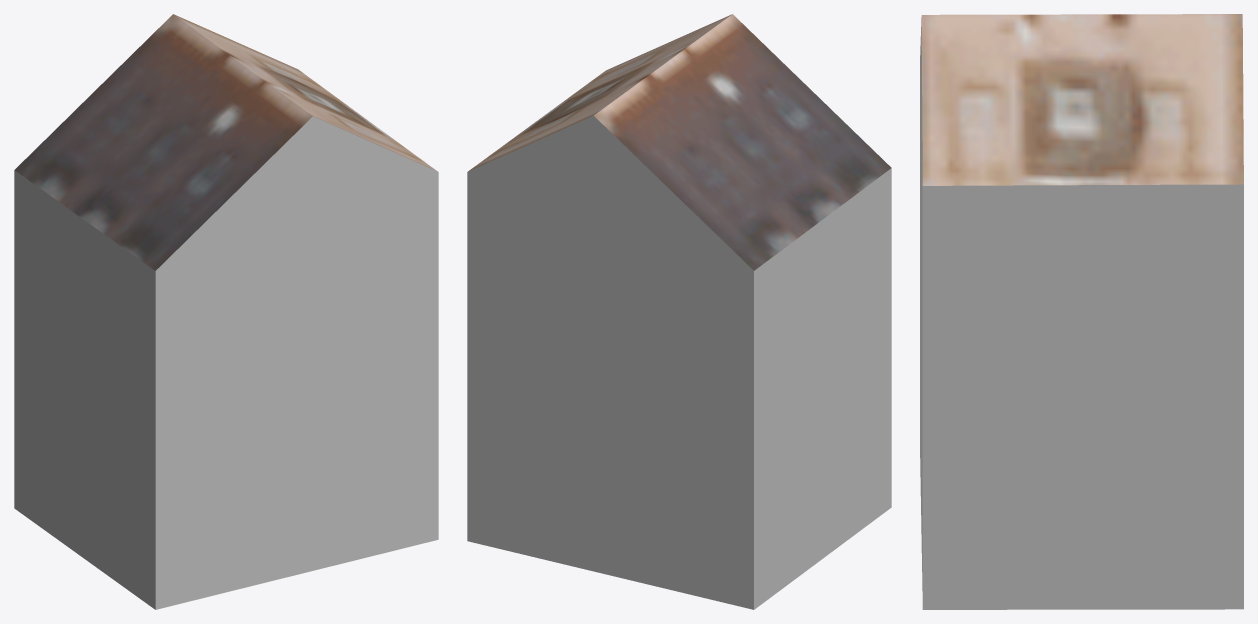
File: DEBW_0010007Txgw.gltf
3 renders of one model, left to right at view 1: azimuth 30°, elevation 25°; view 2: azimuth 150°, elevation 25°; view 3: azimuth 270°, elevation 25°, orthographic. The views are drawn at different scales.
Visible parts, largest first — view 1: Z_UP; view 2: Z_UP; view 3: Z_UP.
Part boxes in pixels (x1,y1,x2,y2): Z_UP: [14, 14, 438, 609]; Z_UP: [467, 14, 891, 609]; Z_UP: [920, 14, 1243, 609].
Bounding box in the file's own units: 12.23 × 18.59 × 10.4.
2 materials, 1 textured.
